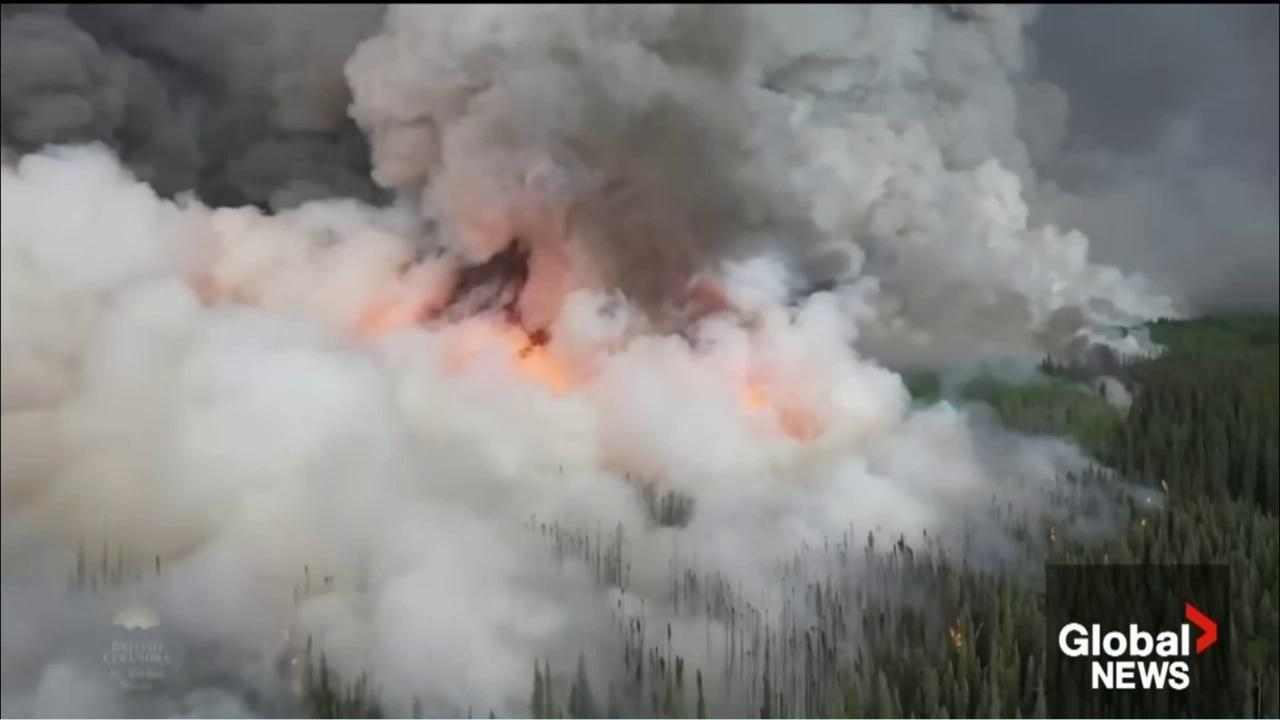fire: (946, 620, 968, 654), (1045, 525, 1060, 543), (1141, 515, 1148, 527)
smoke: (1, 4, 1202, 720)
